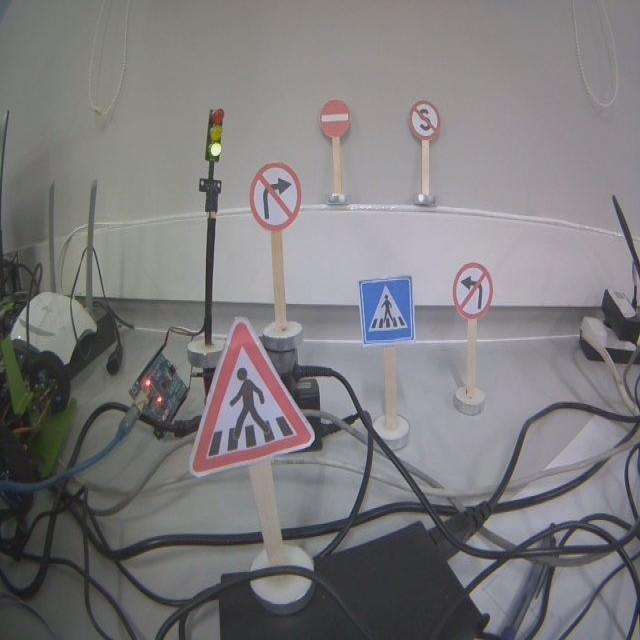Dilarang Belok Kanan: (249, 162, 302, 230)
Dilarang Belok Kiri: (452, 262, 493, 318)
Dilarang Masuk: (319, 100, 350, 137)
Lampu Hijau: (205, 108, 224, 161)
Rambu Berhenti: (409, 100, 440, 140)
Rambu Penyebrangan: (190, 317, 314, 475), (358, 275, 415, 344)
